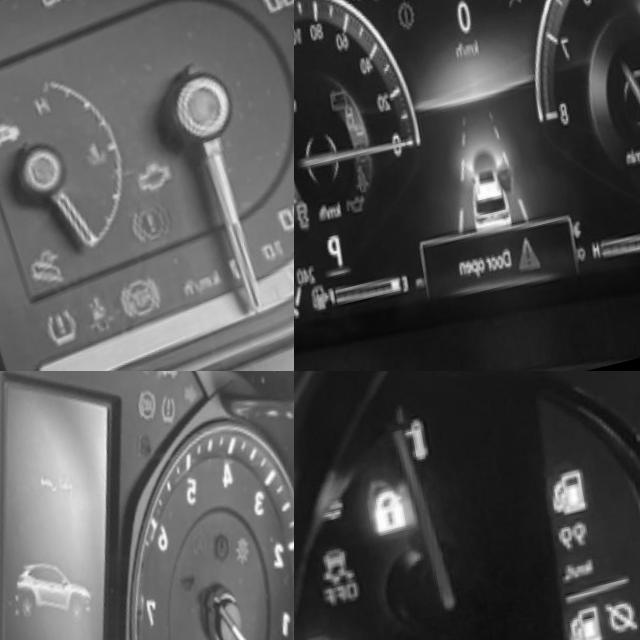security: (151, 376, 178, 409), (0, 119, 14, 164)
